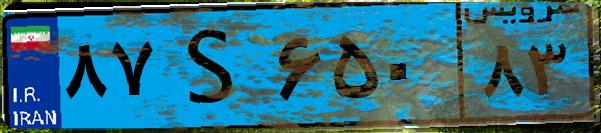0: (385, 28, 445, 110)
3: (525, 38, 570, 115)
5: (330, 28, 385, 110)
6: (270, 28, 330, 110)
7: (110, 28, 158, 98)
8: (57, 26, 110, 100), (475, 38, 525, 113)
S: (158, 12, 270, 120)
